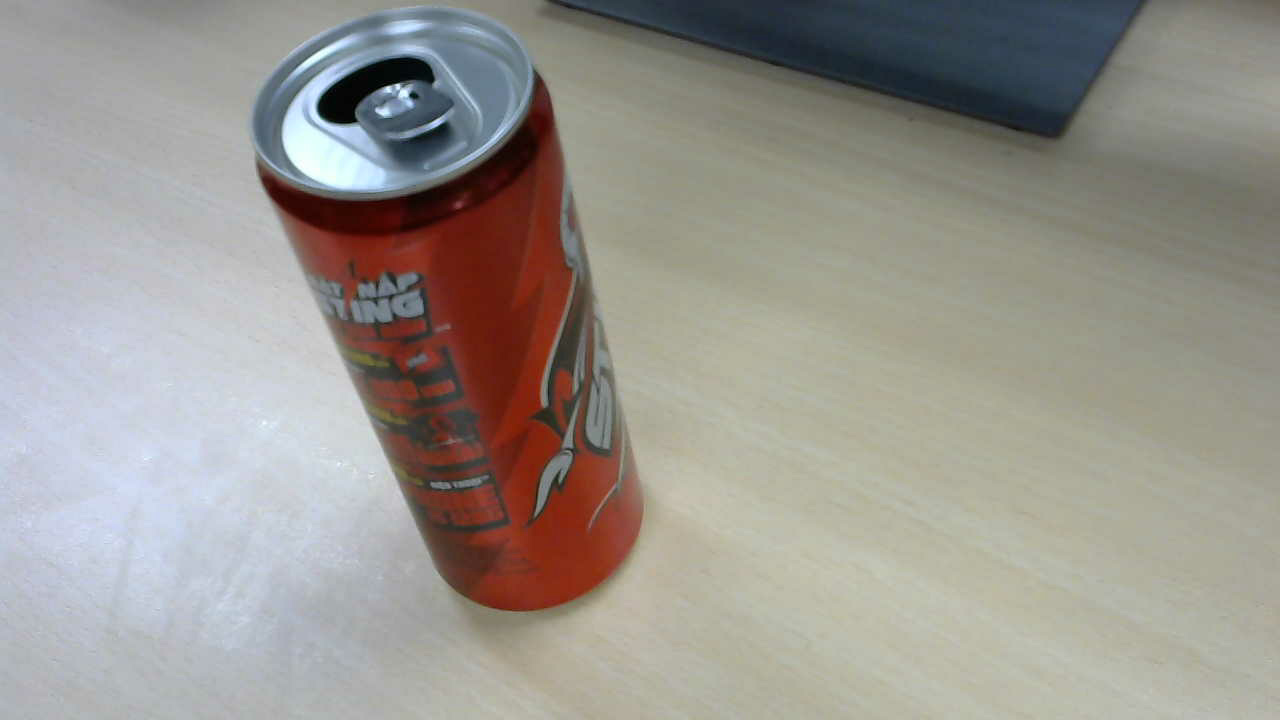Sting: (261, 14, 653, 620)
